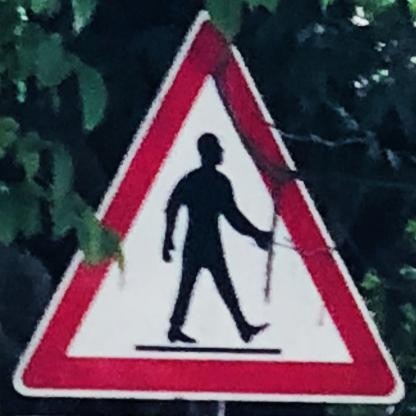Pedestrians: (6, 11, 408, 405)
